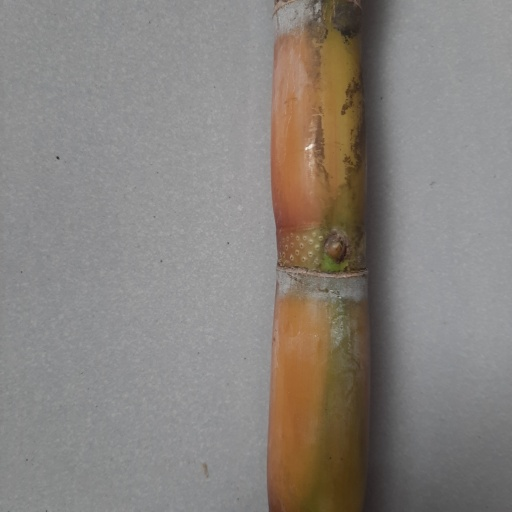Bud: (324, 238, 349, 264)
